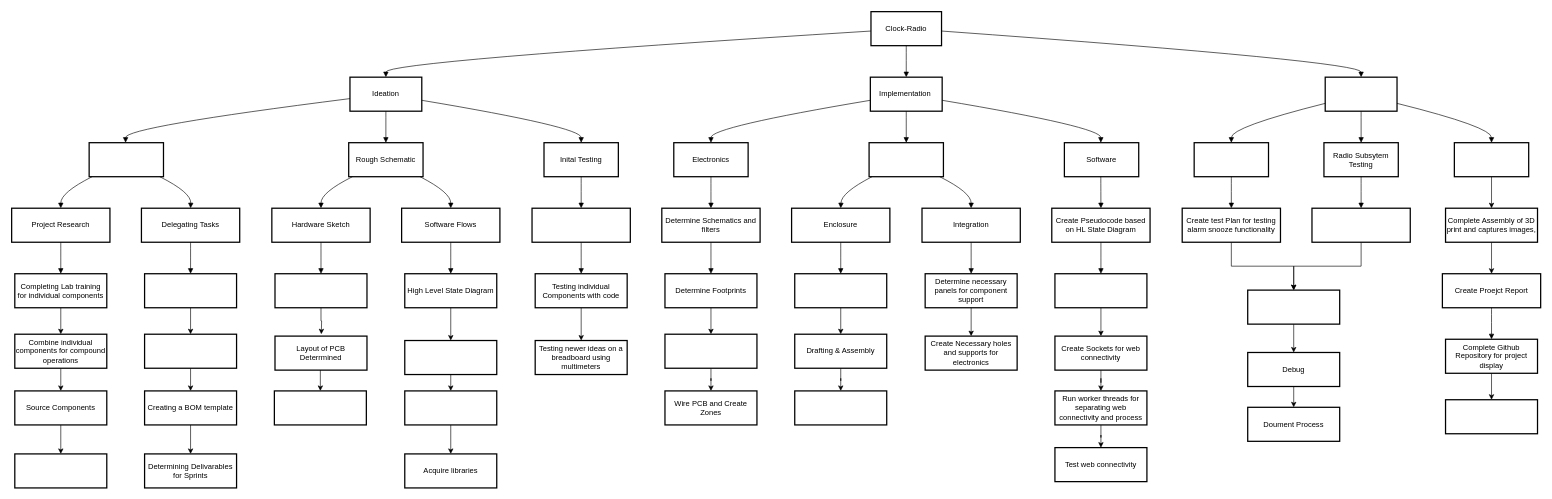
The diagram is 1552 pixels wide and 499 high, and some of its shapes have lost their labels. Each missing label, with the centre of its shape:
3D printing: the point at 840,407
Breadboarding: the point at 581,225
Clock Subsytem testing: the point at 1231,159
Components to use chosen: the point at 320,407
Create Presenatations: the point at 1491,416
Create test plan for Functionality of Channel Setting feature: the point at 1361,225
Create Version Control: the point at 450,407
Creating a WBS: the point at 190,351
Creating Gantt Chart: the point at 190,290
Design Planning: the point at 126,159
Determined Proejct Structure: the point at 450,357
Determing components placements and Locations: the point at 60,470
Documentation: the point at 1491,159
External Hand drawn Enclosure: the point at 320,290
GD&T: the point at 840,290
Implement functional testing: the point at 1293,306
Mechanical: the point at 906,159
Position Footprints: the point at 710,351
Testing & Documentation: the point at 1360,94
Utilise Provided code to program the rpi based on requirements: the point at 1100,290
